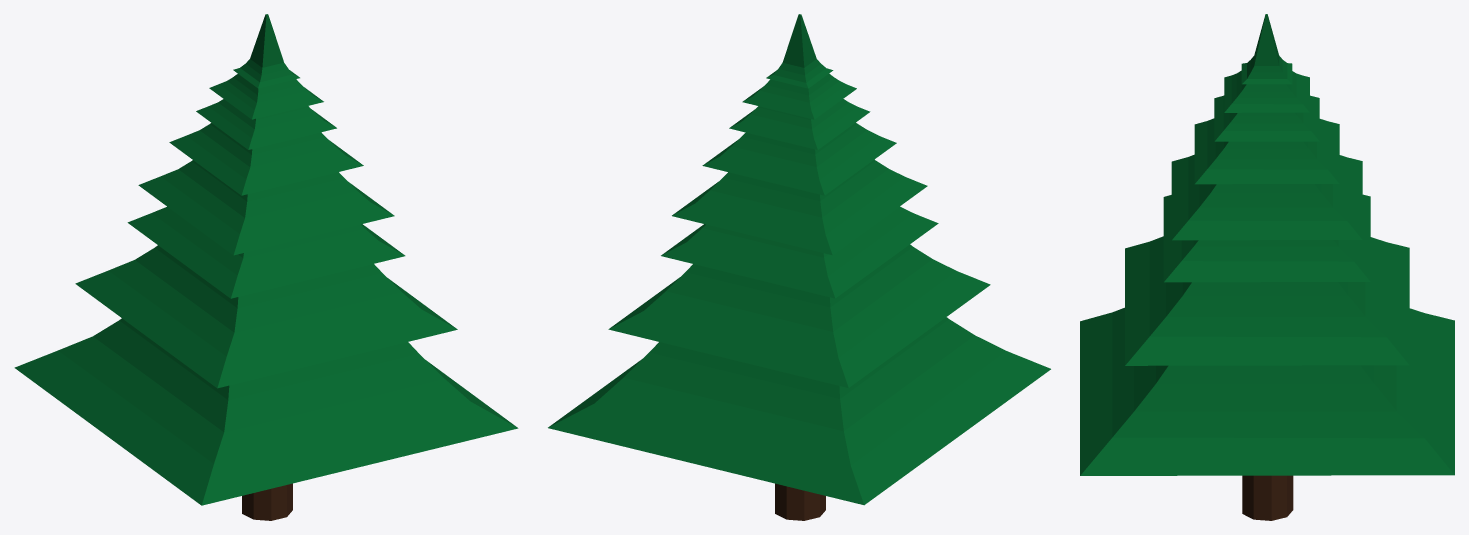
The model's file is Tree4.fbx.
3 renders of one model, left to right at view 1: azimuth 30°, elevation 25°; view 2: azimuth 150°, elevation 25°; view 3: azimuth 270°, elevation 25°, orthographic.
Parts seen in each view (by area): view 1: Cube.007, Cube.006, Cube, Cube.005, Cube.001, Cube.002, Cube.003, Cube.004, Cylinder; view 2: Cube.007, Cube.006, Cube, Cube.005, Cube.001, Cube.002, Cube.003, Cube.004, Cylinder; view 3: Cube.007, Cube.006, Cube, Cube.005, Cube.001, Cube.002, Cube.003, Cylinder, Cube.004.
Boxes of the visible parts, x1,y1,x2,y2 form: Cube.007: (14, 318, 518, 505); Cube.006: (75, 245, 457, 388); Cube: (138, 160, 394, 255); Cube.005: (127, 206, 405, 298); Cube.001: (169, 123, 363, 195); Cube.002: (196, 99, 336, 149); Cube.003: (209, 74, 323, 119); Cube.004: (233, 14, 299, 88); Cylinder: (242, 483, 292, 520); Cube.007: (548, 317, 1050, 505); Cube.006: (608, 244, 990, 387); Cube: (672, 159, 927, 255); Cube.005: (661, 206, 938, 298); Cube.001: (702, 122, 896, 195); Cube.002: (729, 99, 870, 149); Cube.003: (742, 73, 856, 119); Cube.004: (766, 14, 833, 88); Cylinder: (775, 483, 825, 520); Cube.007: (1080, 307, 1454, 475); Cube.006: (1125, 236, 1409, 365); Cube: (1171, 154, 1362, 240); Cube.005: (1163, 194, 1370, 282); Cube.001: (1194, 118, 1339, 184); Cube.002: (1214, 95, 1319, 141); Cube.003: (1224, 70, 1309, 112); Cylinder: (1242, 475, 1293, 520); Cube.004: (1241, 14, 1292, 84).
Bounding box in the file's own units: 582 × 869 × 595.
